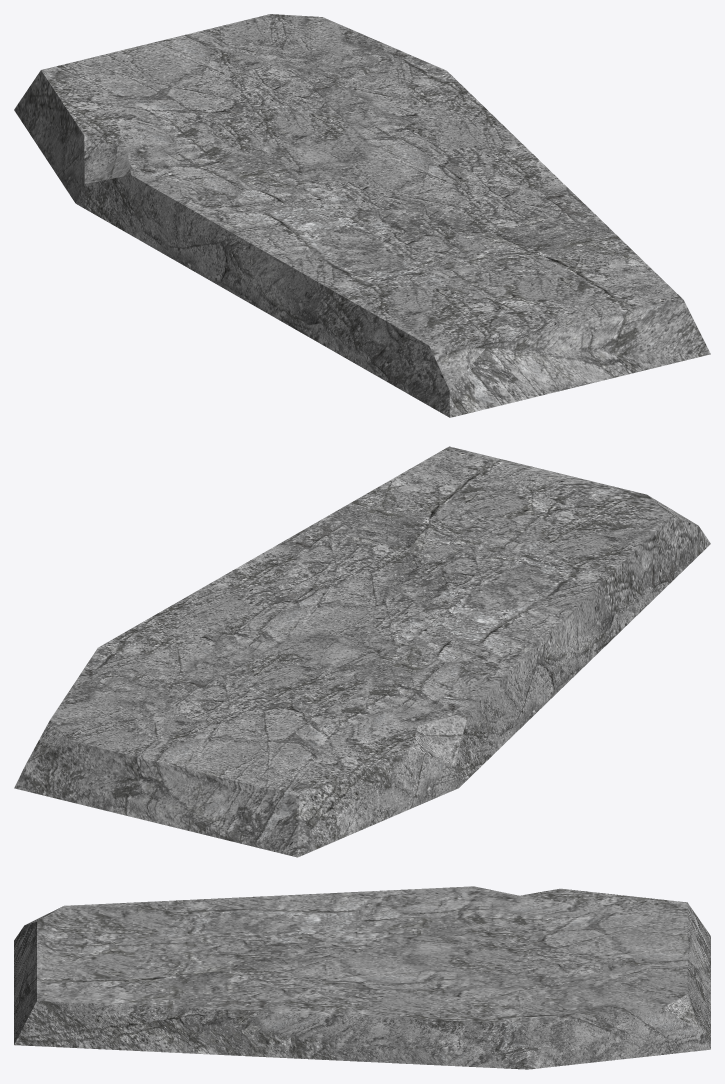
File: materials_3_coffin_cover_0.fbx
3 renders of one model, top to bottom at view 1: azimuth 30°, elevation 25°; view 2: azimuth 150°, elevation 25°; view 3: azimuth 270°, elevation 25°, orthographic. The views are drawn at different scales.
Parts seen in each view (by area): view 1: materials_3_coffin_cover_0; view 2: materials_3_coffin_cover_0; view 3: materials_3_coffin_cover_0.
Boxes of the visible parts, box(x1,y1,x2,y2) form: materials_3_coffin_cover_0: box(14, 14, 710, 417); materials_3_coffin_cover_0: box(14, 446, 710, 857); materials_3_coffin_cover_0: box(14, 886, 710, 1069).
Size of the model in its own units: 98.88 by 11.65 by 190.
